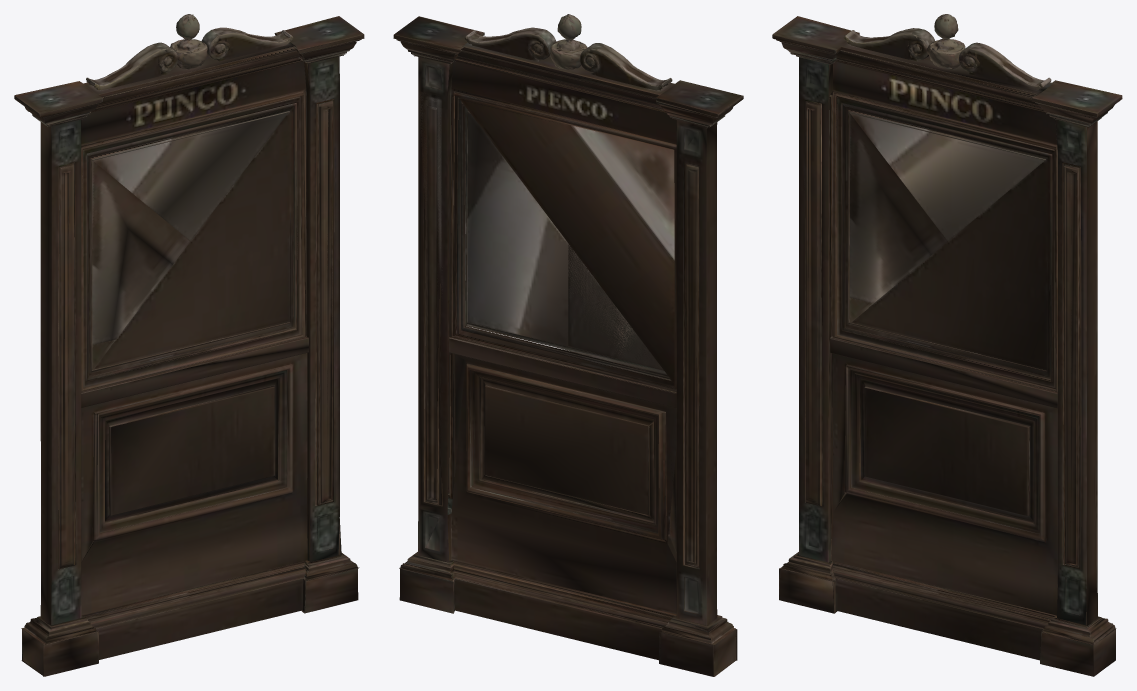
The model's file is board.glb.
3 renders of one model, left to right at view 1: azimuth 30°, elevation 25°; view 2: azimuth 150°, elevation 25°; view 3: azimuth 330°, elevation 25°, orthographic.
Parts seen in each view (by area): view 1: midway-fit; view 2: midway-fit; view 3: midway-fit.
Part boxes in pixels (<box>): midway-fit: <box>14,14,364,676</box>; midway-fit: <box>393,14,743,676</box>; midway-fit: <box>772,14,1122,676</box>.
Size of the model in its own units: 0.5524 by 1 by 0.0744.
Materials: 1 (1 with a texture image).
